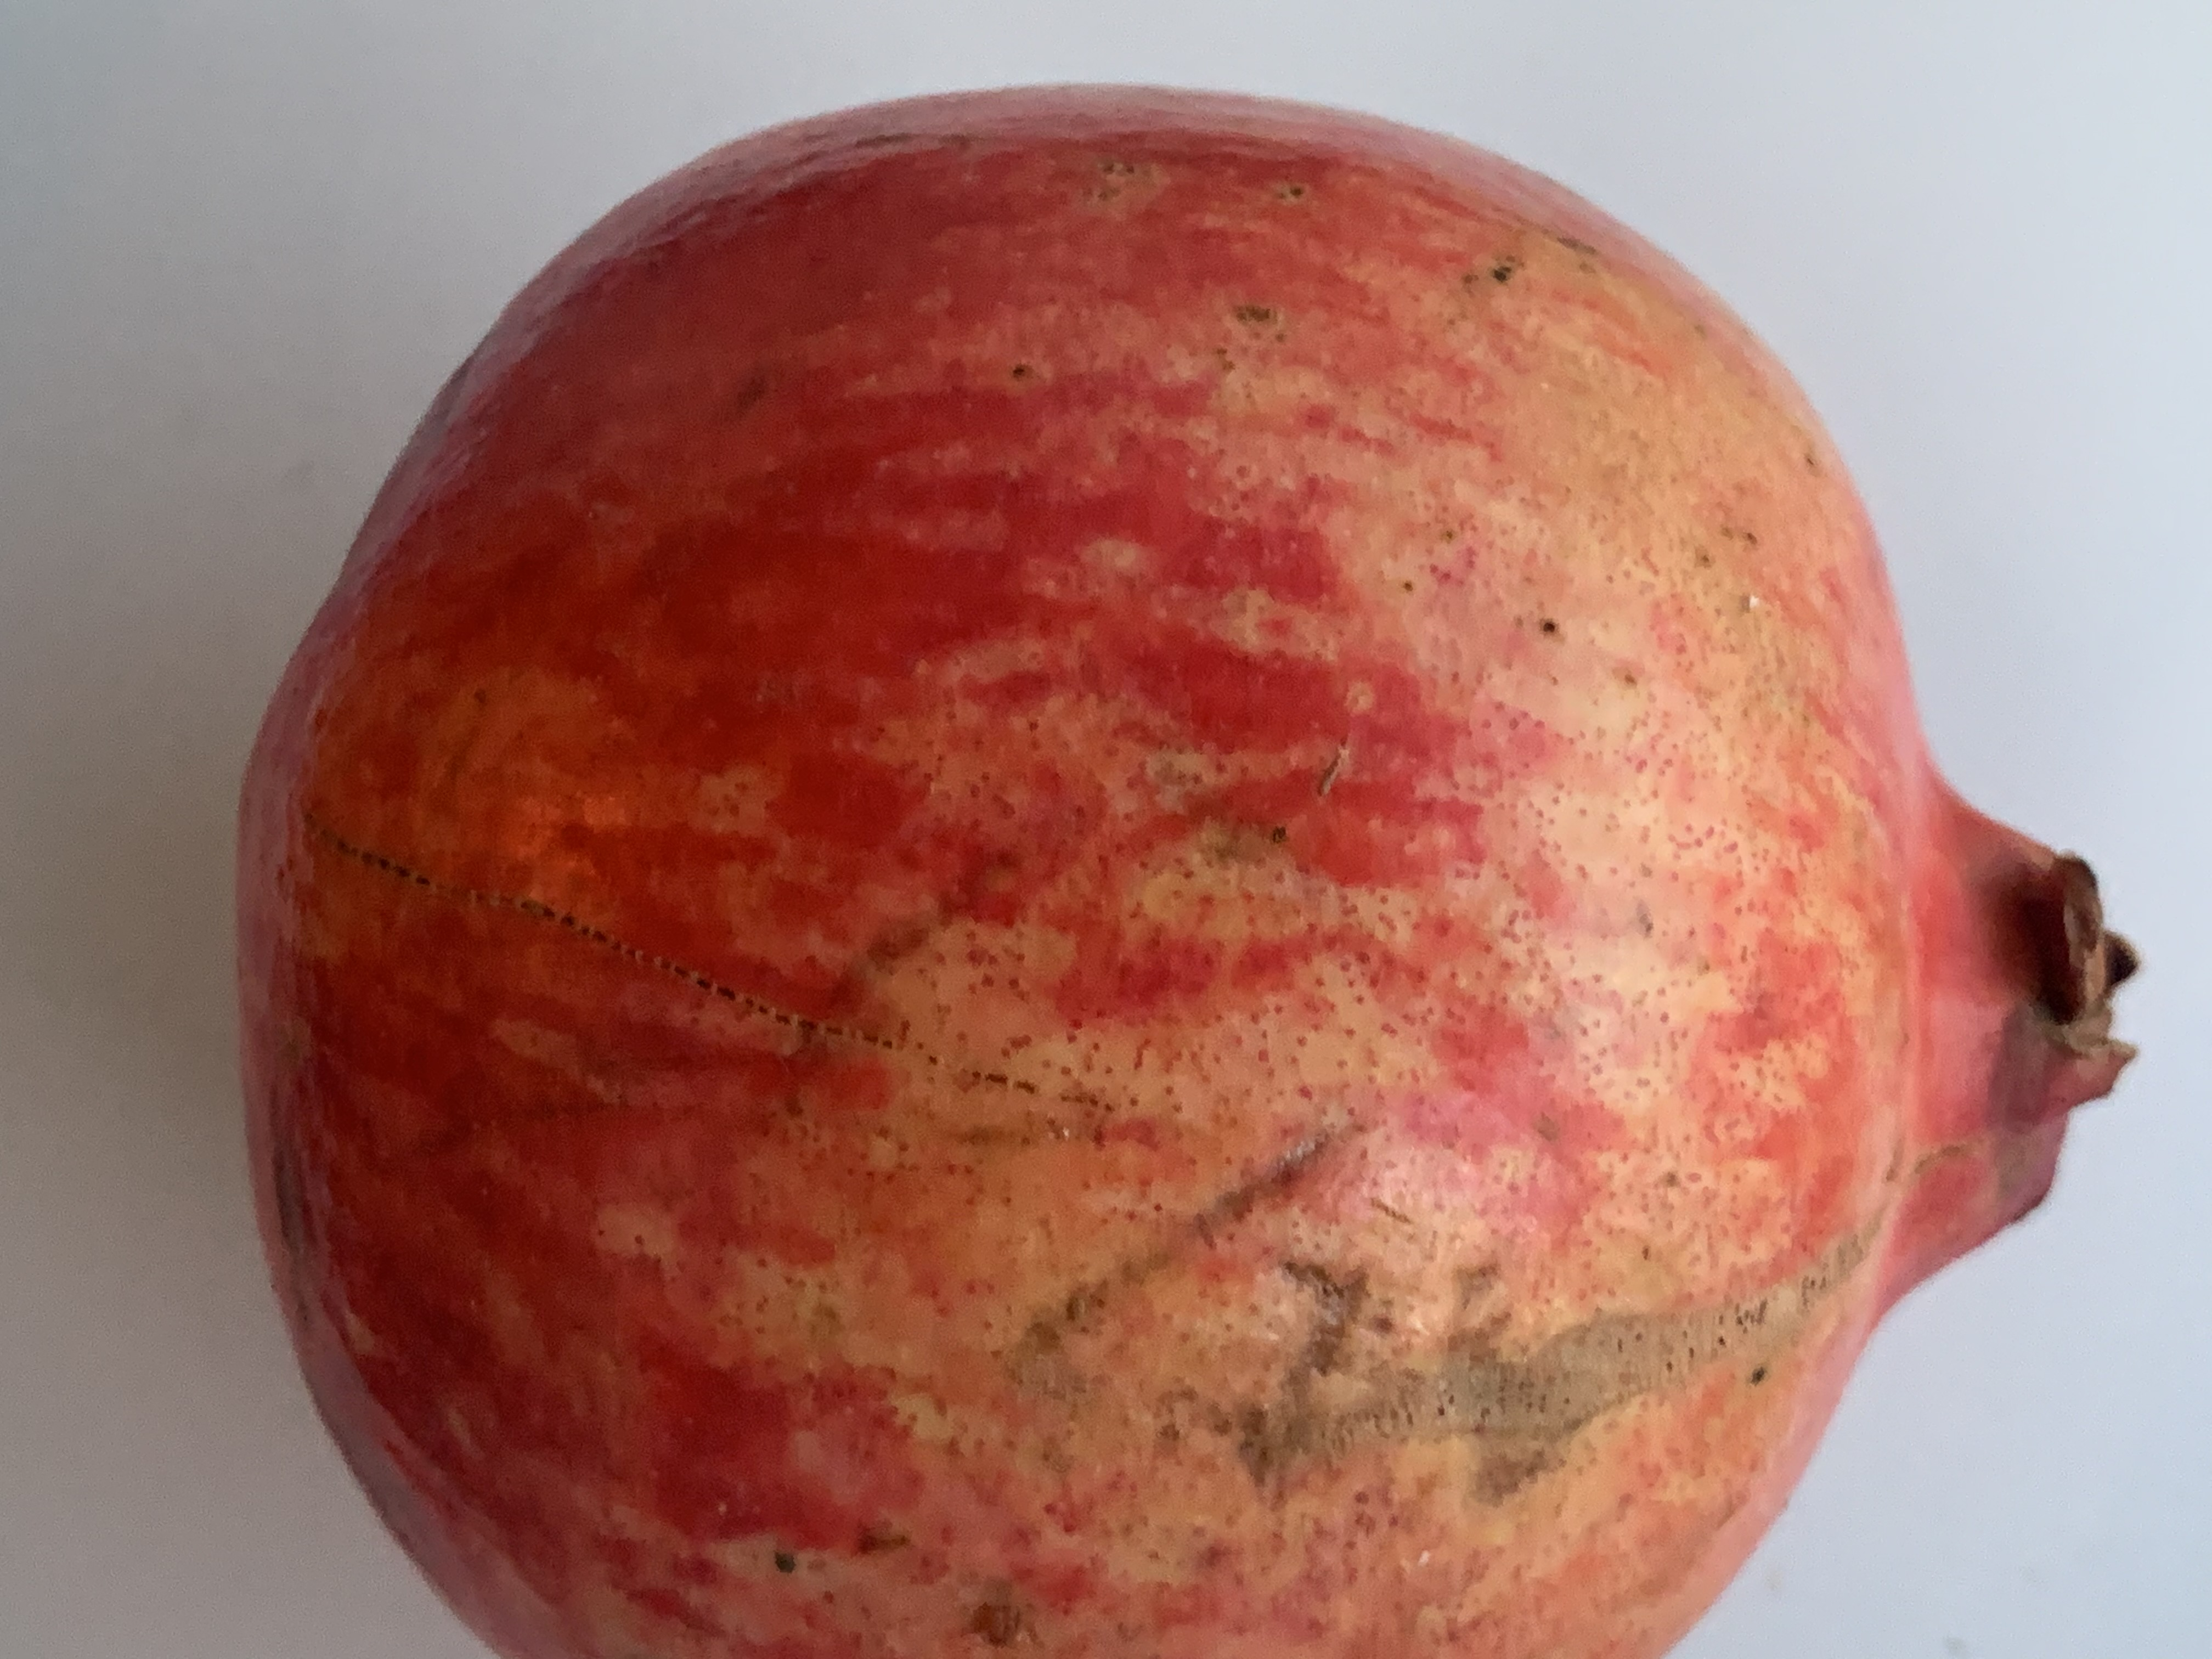Pomegranate: (226, 105, 2149, 1659)
